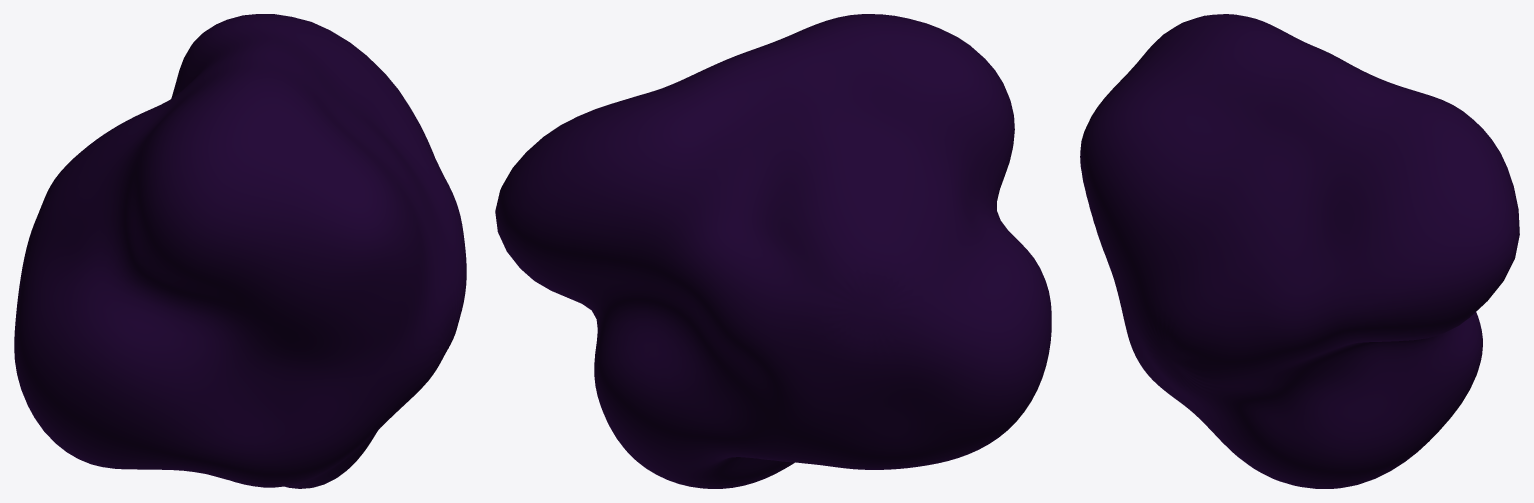
File: burbu.glb
3 renders of one model, left to right at view 1: azimuth 30°, elevation 25°; view 2: azimuth 150°, elevation 25°; view 3: azimuth 270°, elevation 25°, orthographic. The views are drawn at different scales.
Parts seen in each view (by area): view 1: Sphere; view 2: Sphere; view 3: Sphere.
Part boxes in pixels (x1=…): Sphere: x1=14, y1=14, x2=466, y2=488; Sphere: x1=495, y1=14, x2=1051, y2=488; Sphere: x1=1080, y1=14, x2=1519, y2=488.
Size of the model in its own units: 2.53 by 2.4 by 2.31.
